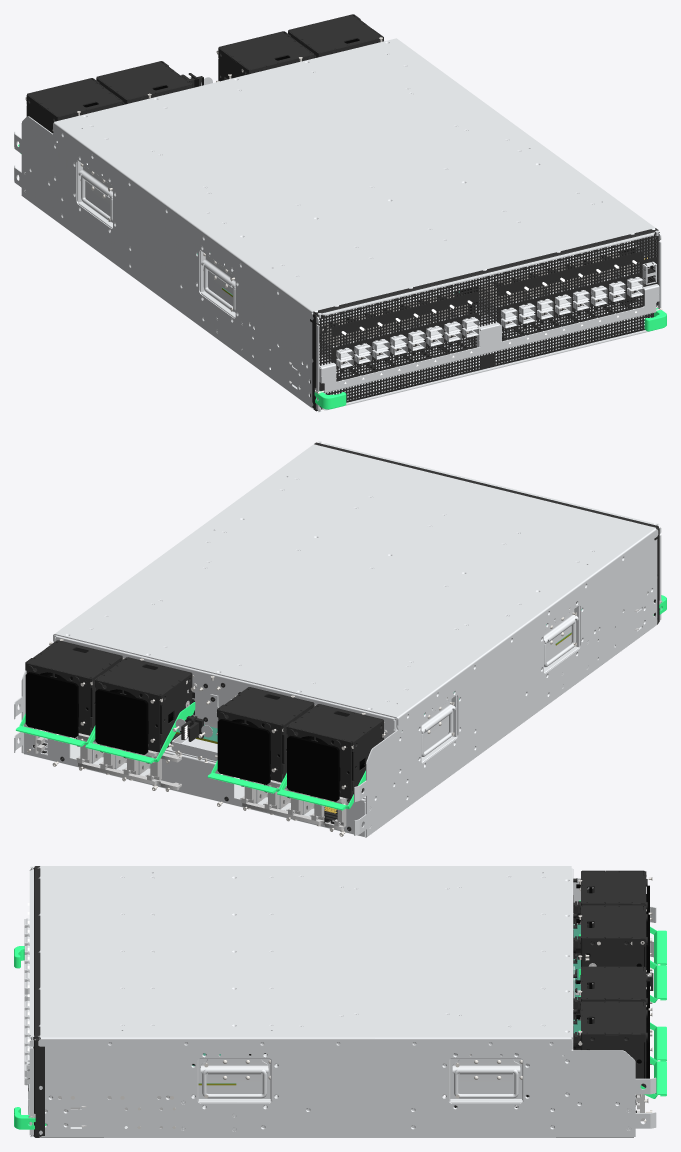
The model's file is sidecar-0.glb.
The picture shows the model from 3 angles, top to bottom: view 1: azimuth 30°, elevation 25°; view 2: azimuth 150°, elevation 25°; view 3: azimuth 270°, elevation 25°; orthographic projection. The views are drawn at different scales.
Visible parts, largest first — view 1: Handles_Socket_2.004_block.001, Fan_Screw_4.024_block.001, DBR FHSM3X5-TX-STL-ZI-NYPA FHMS M3X5 TORX OXC_Simplified.204, Cube.047_block.001, Fan_Frame_Side_block.001_block.001; view 2: Handles_Socket_2.004_block.001, Fan_Screw_4.024_block.001, Fan_Frame_Side_block.001_block.001, Plane.023, DBR FHSM3X5-TX-STL-ZI-NYPA FHMS M3X5 TORX OXC_Simplified.204, Cube.047_block.001; view 3: Handles_Socket_2.004_block.001, Fan_Screw_4.024_block.001, Fan_Frame_Side_block.001_block.001, Cube.047_block.001, DBR FHSM3X5-TX-STL-ZI-NYPA FHMS M3X5 TORX OXC_Simplified.204, Plane.030.
Part boxes in pixels (<box>): Handles_Socket_2.004_block.001: <box>14,38,661,412</box>; Fan_Screw_4.024_block.001: <box>26,14,659,411</box>; DBR FHSM3X5-TX-STL-ZI-NYPA FHMS M3X5 TORX OXC_Simplified.204: <box>25,37,662,394</box>; Cube.047_block.001: <box>181,73,658,384</box>; Fan_Frame_Side_block.001_block.001: <box>18,39,666,409</box>; Handles_Socket_2.004_block.001: <box>14,441,661,837</box>; Fan_Screw_4.024_block.001: <box>25,442,659,799</box>; Fan_Frame_Side_block.001_block.001: <box>16,595,666,810</box>; Plane.023: <box>34,592,653,830</box>; DBR FHSM3X5-TX-STL-ZI-NYPA FHMS M3X5 TORX OXC_Simplified.204: <box>26,600,662,836</box>; Cube.047_block.001: <box>33,602,576,831</box>; Handles_Socket_2.004_block.001: <box>24,866,656,1137</box>; Fan_Screw_4.024_block.001: <box>33,866,647,1137</box>; Fan_Frame_Side_block.001_block.001: <box>14,884,666,1129</box>; Cube.047_block.001: <box>27,878,653,1112</box>; DBR FHSM3X5-TX-STL-ZI-NYPA FHMS M3X5 TORX OXC_Simplified.204: <box>28,874,652,1128</box>; Plane.030: <box>192,924,580,1085</box>.
Size of the model in its own units: 17794 by 4782 by 28114.
